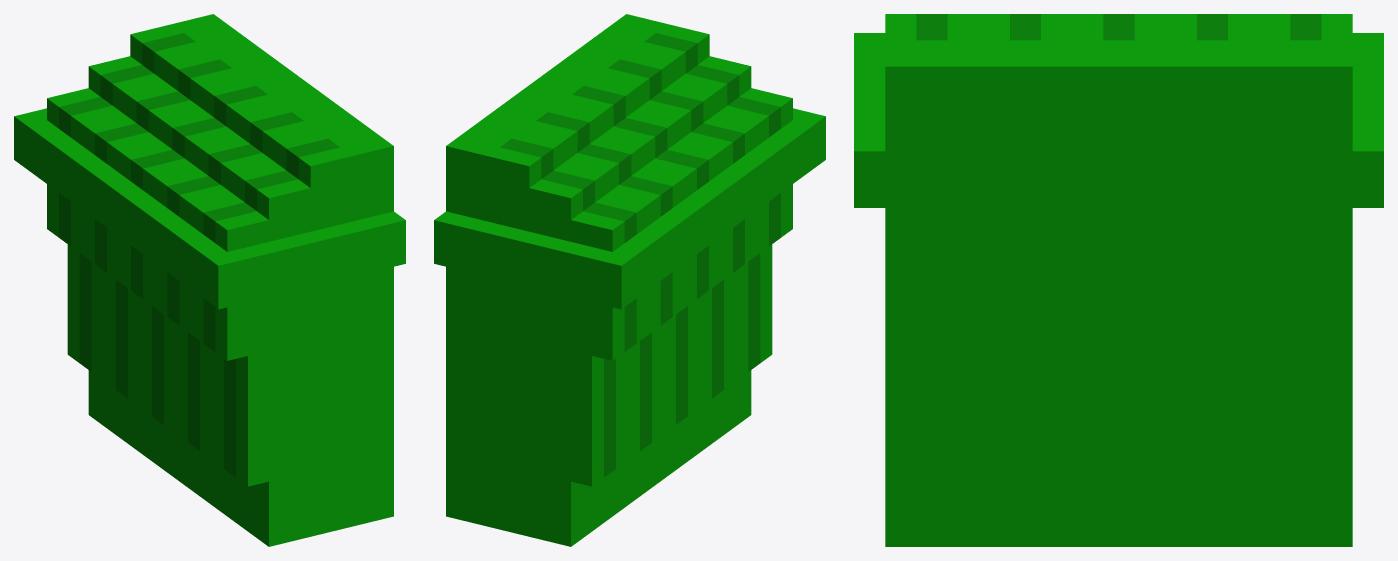
File: greenTrashBin.glb
3 views of the same model, side by side, from view 1: azimuth 30°, elevation 25°; view 2: azimuth 150°, elevation 25°; view 3: azimuth 270°, elevation 25° (orthographic). The views are drawn at different scales.
Parts seen in each view (by area): view 1: ObjObject; view 2: ObjObject; view 3: ObjObject.
Boxes of the visible parts, x1,y1,x2,y2 form: ObjObject: (14, 14, 405, 546); ObjObject: (434, 14, 825, 546); ObjObject: (854, 14, 1383, 546).
Bounding box in the file's own units: 0.9 × 1.7 × 1.7.
1 material, 1 textured.
